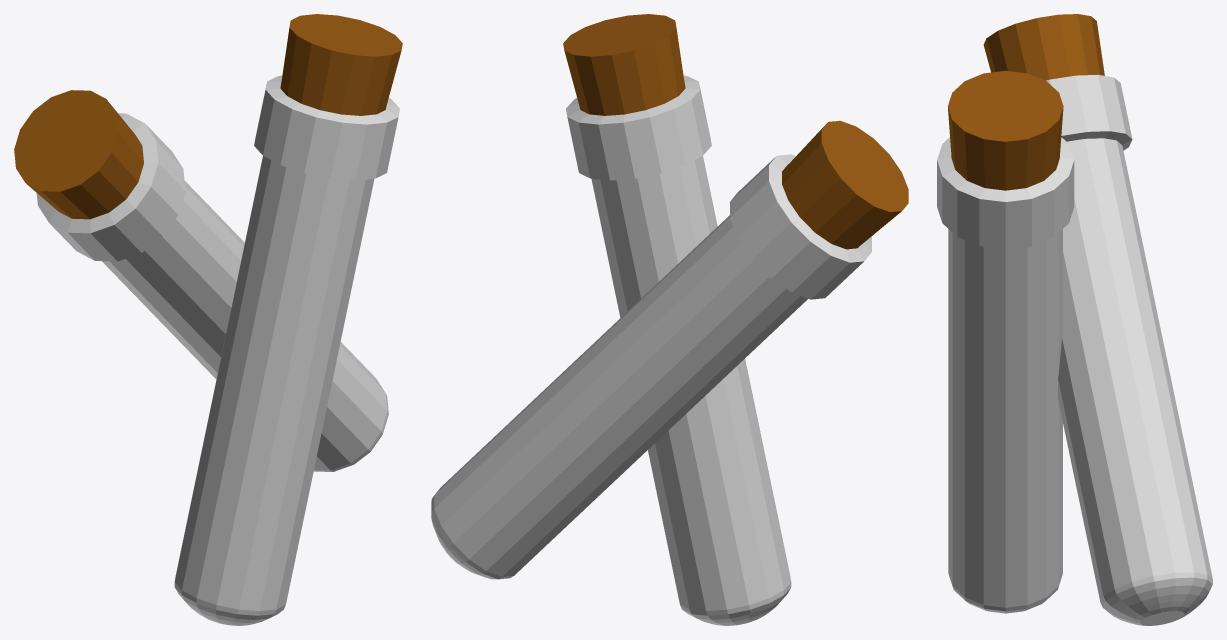
File: Płyn_rdzeniowy.fbx
The picture shows the model from 3 angles, left to right: view 1: azimuth 30°, elevation 25°; view 2: azimuth 150°, elevation 25°; view 3: azimuth 270°, elevation 25°; orthographic projection.
Visible parts, largest first — view 1: Glass, Glass.001, Plug.001, Plug; view 2: Glass.001, Glass, Plug.001, Plug; view 3: Glass.001, Glass, Plug, Plug.001.
Boxes of the visible parts, box(x1,y1,x2,y2) form: Glass: box(174, 75, 399, 625); Glass.001: box(36, 113, 388, 471); Plug.001: box(14, 90, 143, 219); Plug: box(280, 14, 402, 115); Glass.001: box(431, 154, 871, 579); Glass: box(566, 75, 791, 625); Plug.001: box(782, 120, 908, 249); Plug: box(563, 14, 685, 115); Glass.001: box(1046, 74, 1212, 625); Glass: box(937, 137, 1074, 613); Plug: box(948, 70, 1063, 190); Plug.001: box(983, 14, 1104, 80).
Bounding box in the file's own units: 126 × 168 × 74.29.
